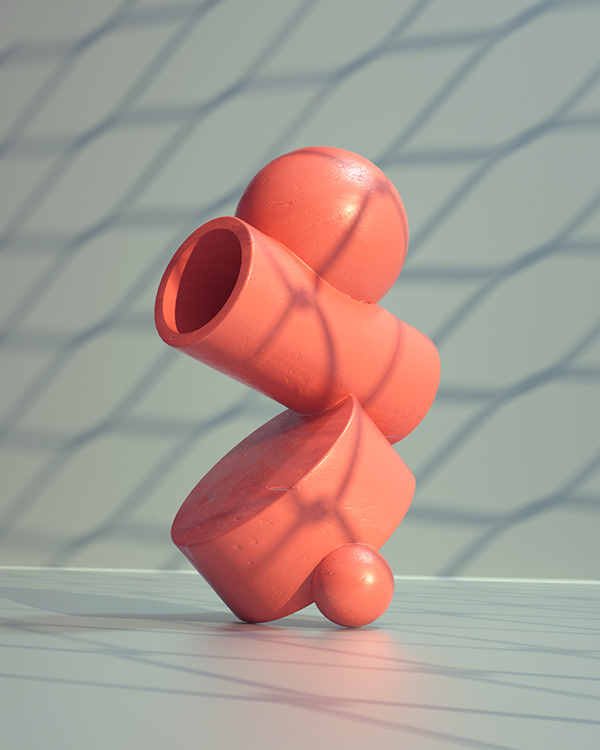not a gesture sign: (0, 567, 599, 749), (240, 148, 407, 300)
